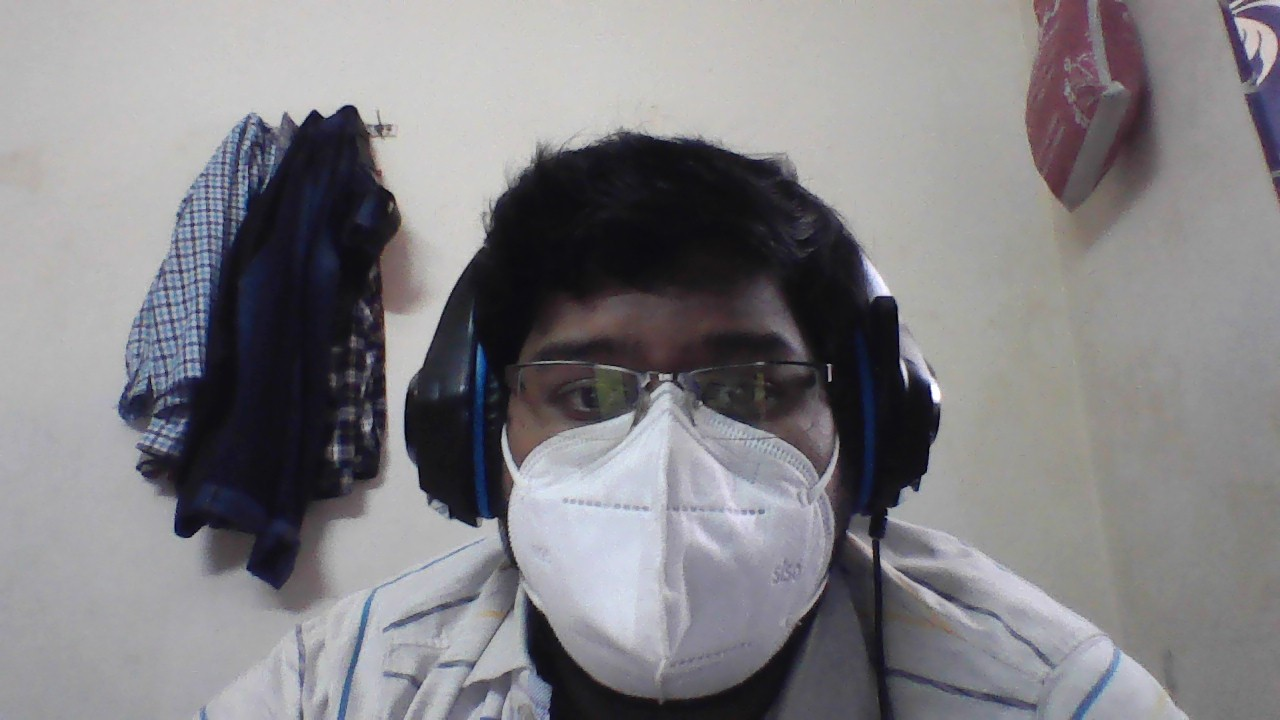Mask: (509, 411, 846, 662)
